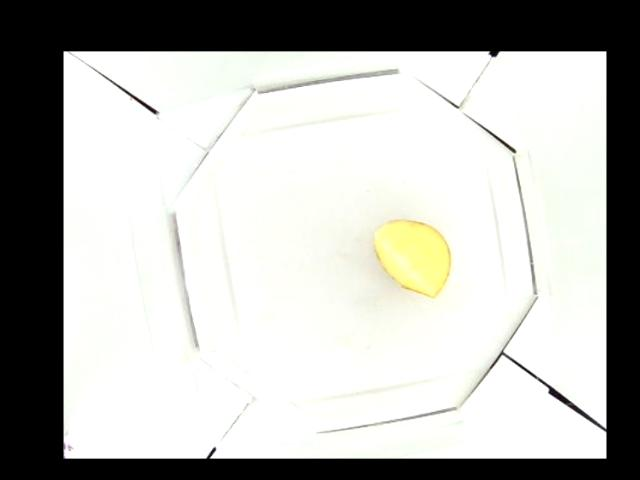Potato: (375, 218, 452, 297)
